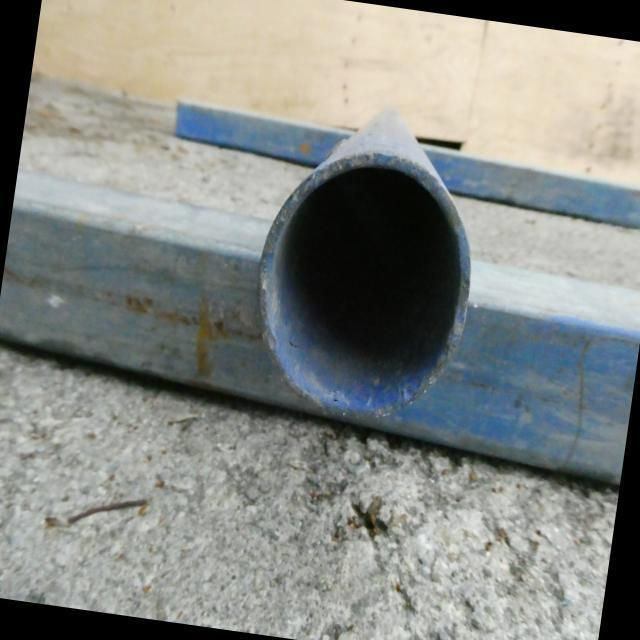pipe: (258, 154, 472, 417)
